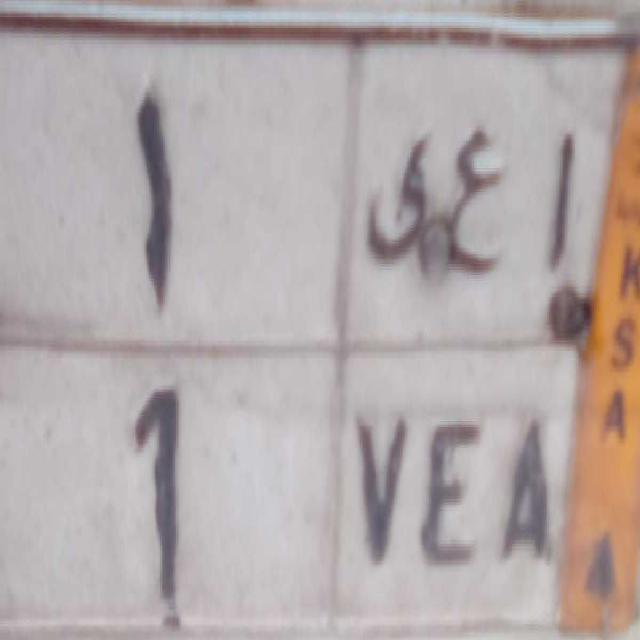license_plate: (0, 342, 571, 640)
